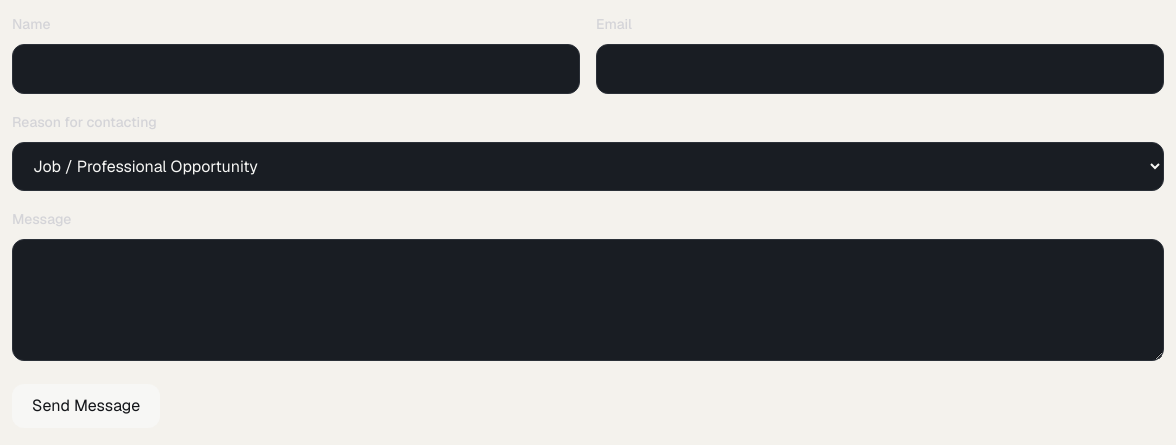
ContactForm › submits the expected payload and resets after success
Type "Mohammad Shahil Khan" into the field labelled "Name" at (296, 69), box [12, 44, 580, 94]
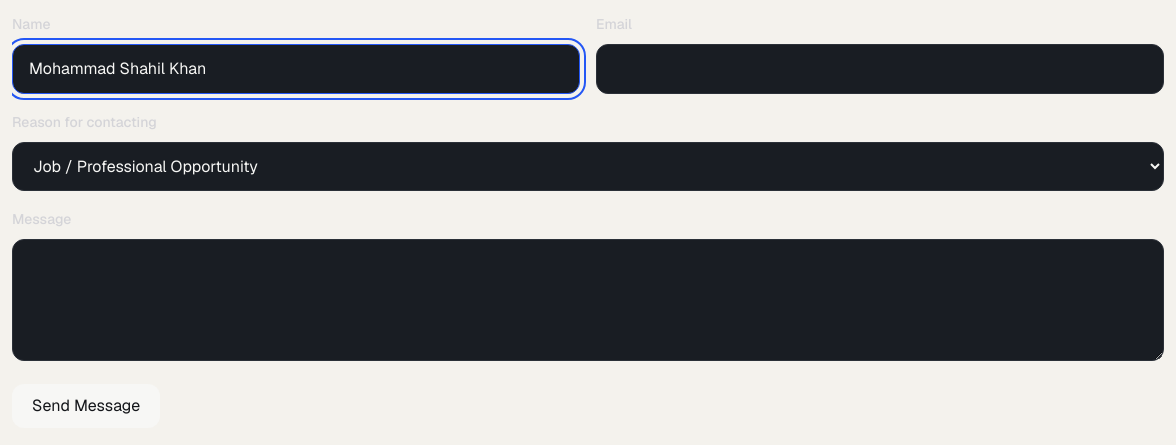
Type "shahil@example.com" into the field labelled "Email" at (880, 69), box [596, 44, 1164, 94]
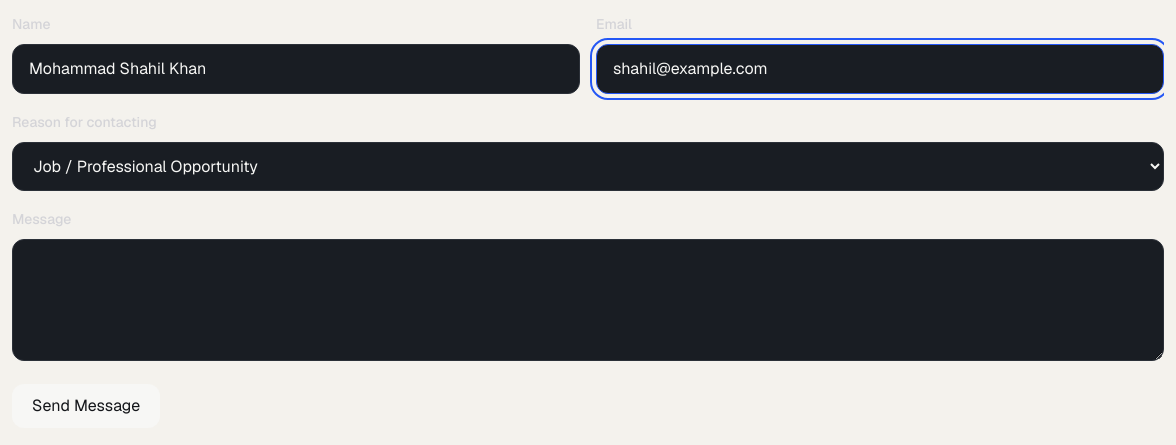
Select "Job / Professional Opportunity" in the dropdown labelled "Reason for contacting" at (588, 166), box [12, 142, 1164, 191]
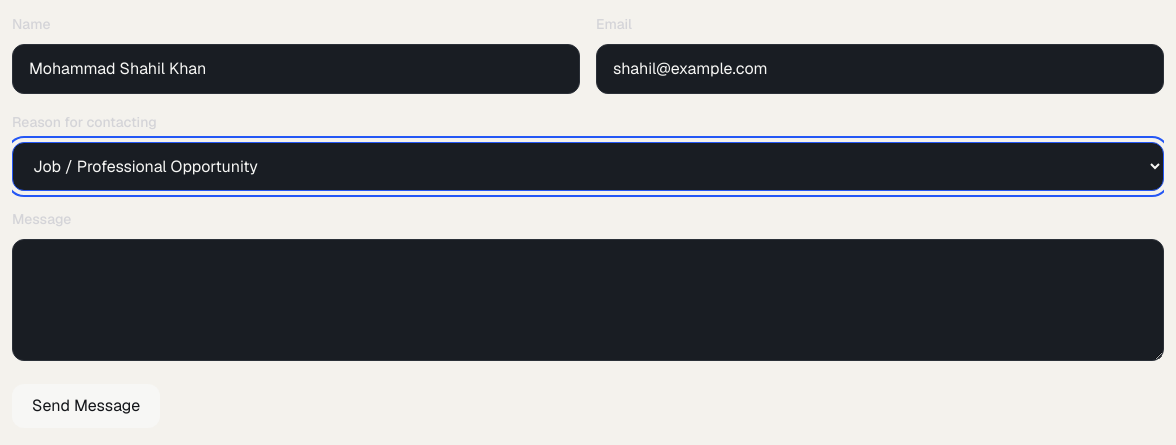
Type "I would like to discuss a software engineering opportunity." into the text box labelled "Message" at (588, 300), box [12, 239, 1164, 361]
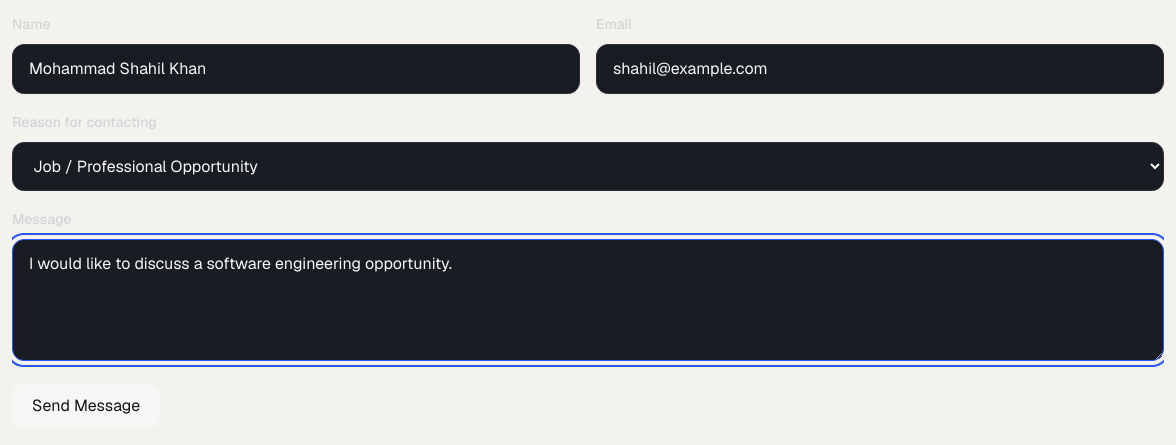
Click the button "Send Message" at (86, 406), box [12, 384, 160, 428]
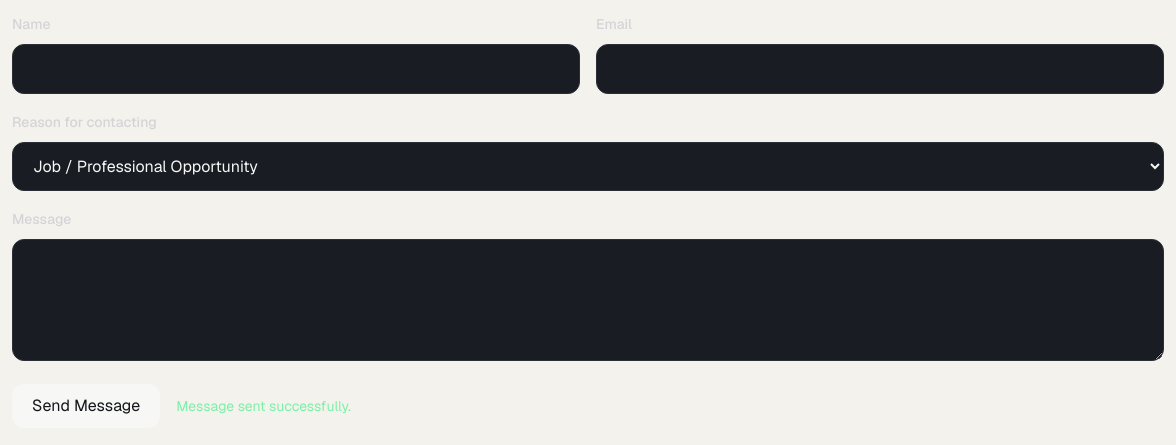
Expected: the text "Message sent successfully." is shown, [176, 396, 351, 416]
Expected: the field labelled "Name" is empty, [12, 44, 580, 94]
Expected: the field labelled "Email" is empty, [596, 44, 1164, 94]
